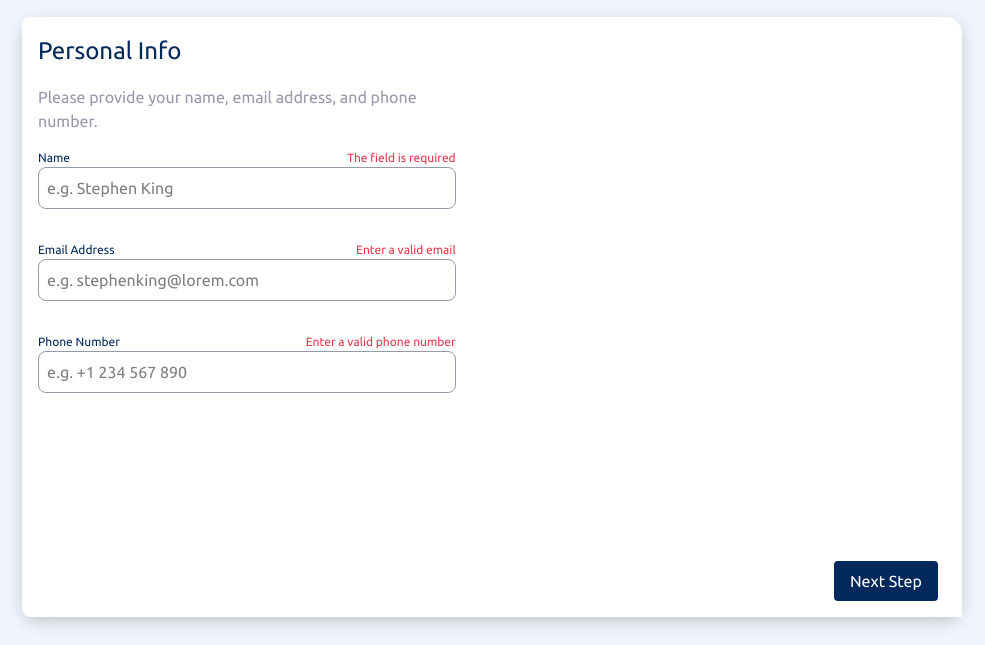
Scenario: StepOne › Submit without entering the form
The width and height of the screenshot is (985, 645).
Expected: the field labelled "Email Address" is enabled, [38, 259, 456, 301]
Expected: the field labelled "Phone Number" is enabled, [38, 351, 456, 393]
Step 1. Type "hello" into the field labelled "Name" → (247, 188), box [38, 167, 456, 209]
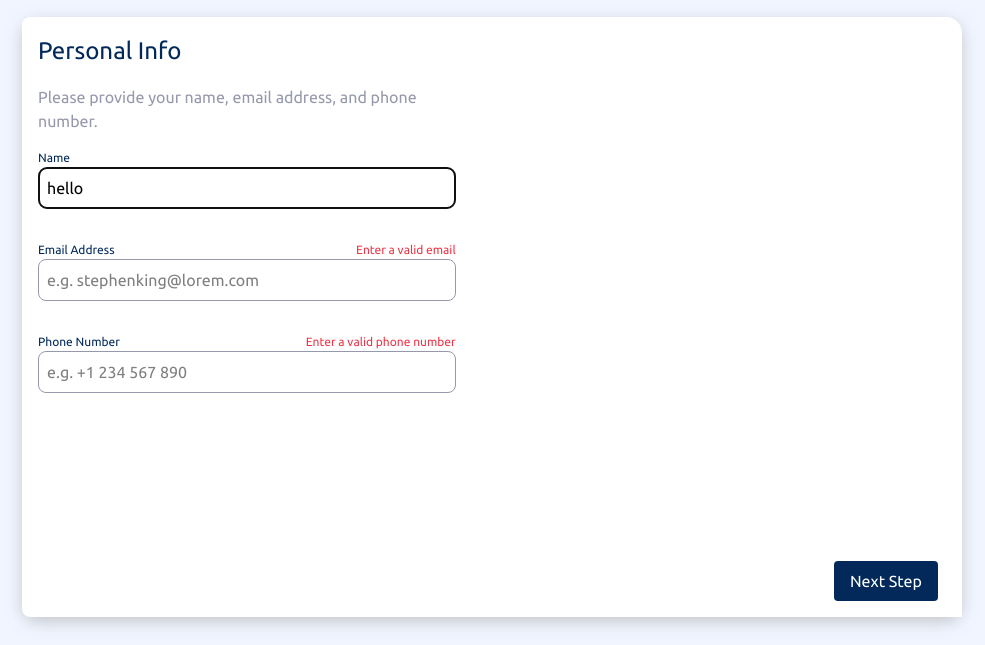
Step 2. Type "abc@abc.com" into the field labelled "Email Address" → (247, 280), box [38, 259, 456, 301]
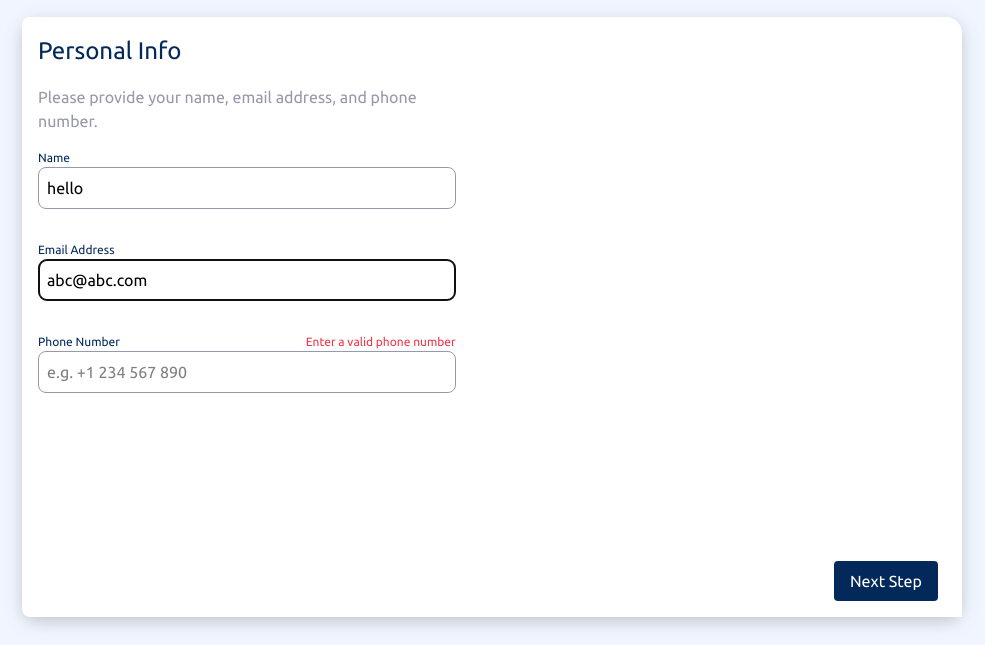
Step 3. Type "123-456-7890" into the field labelled "Phone Number" → (247, 372), box [38, 351, 456, 393]
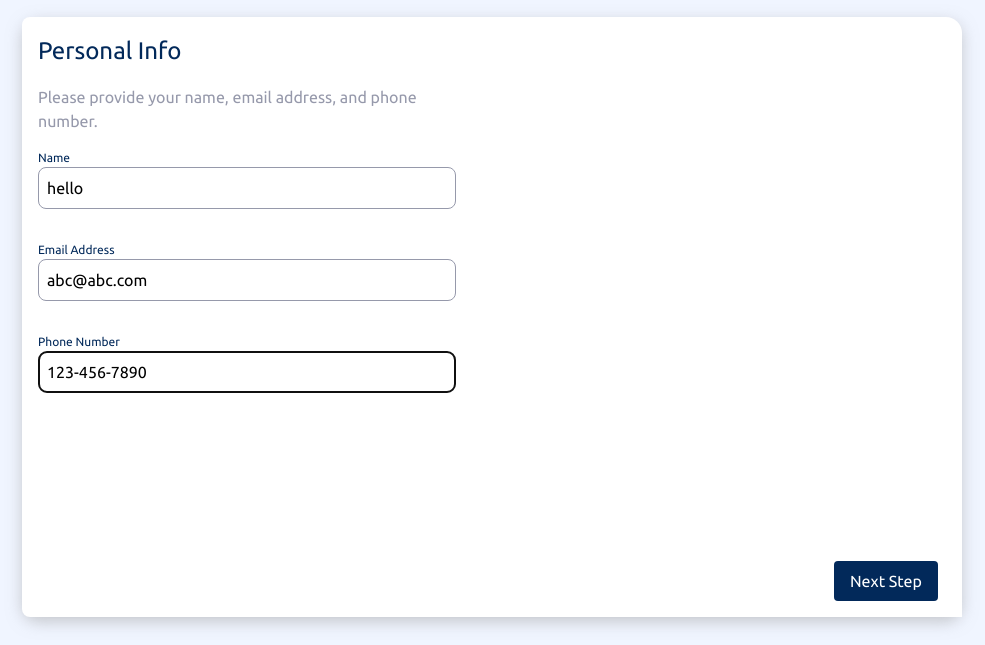
Expected: the text "The field is required" is not shown
Now the text "Enter a valid phone number" is gone
